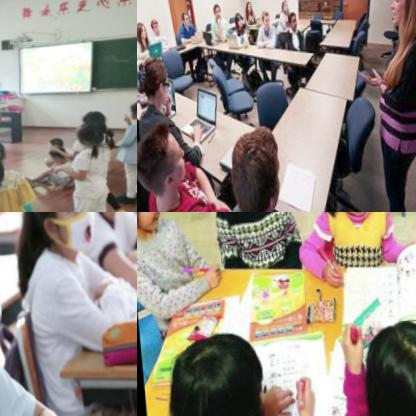head: (163, 335, 273, 416), (218, 124, 288, 212), (359, 313, 416, 416), (23, 212, 101, 260), (137, 124, 186, 195), (139, 56, 173, 112), (384, 0, 416, 38), (74, 122, 105, 150), (81, 110, 107, 130), (47, 147, 65, 166), (258, 8, 270, 31), (46, 135, 63, 150), (284, 9, 297, 28), (177, 10, 189, 28), (127, 102, 137, 123), (137, 19, 146, 40), (210, 2, 220, 20), (148, 16, 157, 34), (233, 11, 242, 27), (278, 0, 288, 13), (242, 0, 251, 14)
